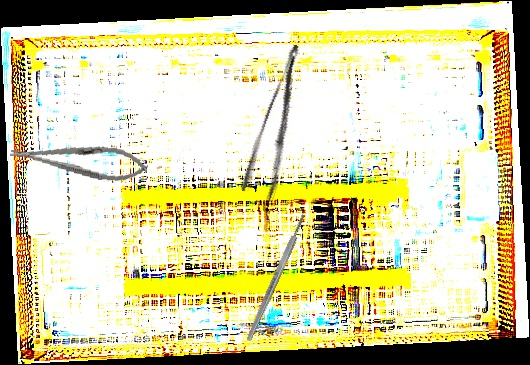Dressing Forceps: (237, 43, 326, 202)
Needle Holder: (8, 134, 150, 186)
Scalpel Handle: (244, 213, 308, 342)
